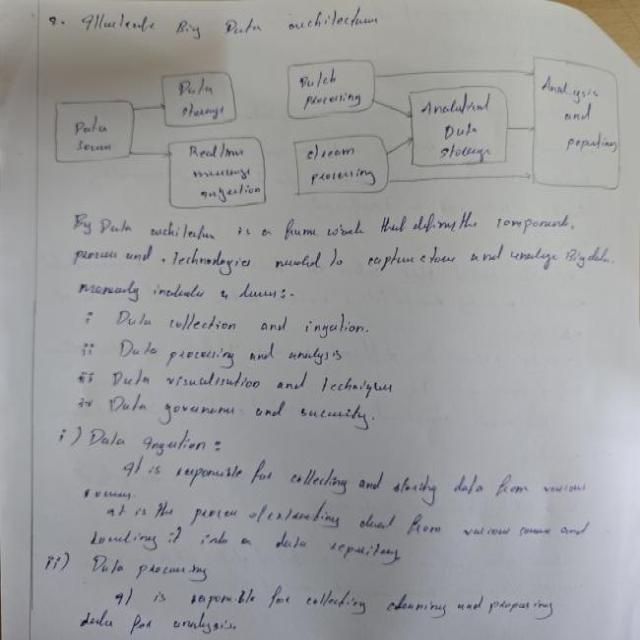Figure Detection - v3 Dataset Version2: (41, 46, 635, 216)
